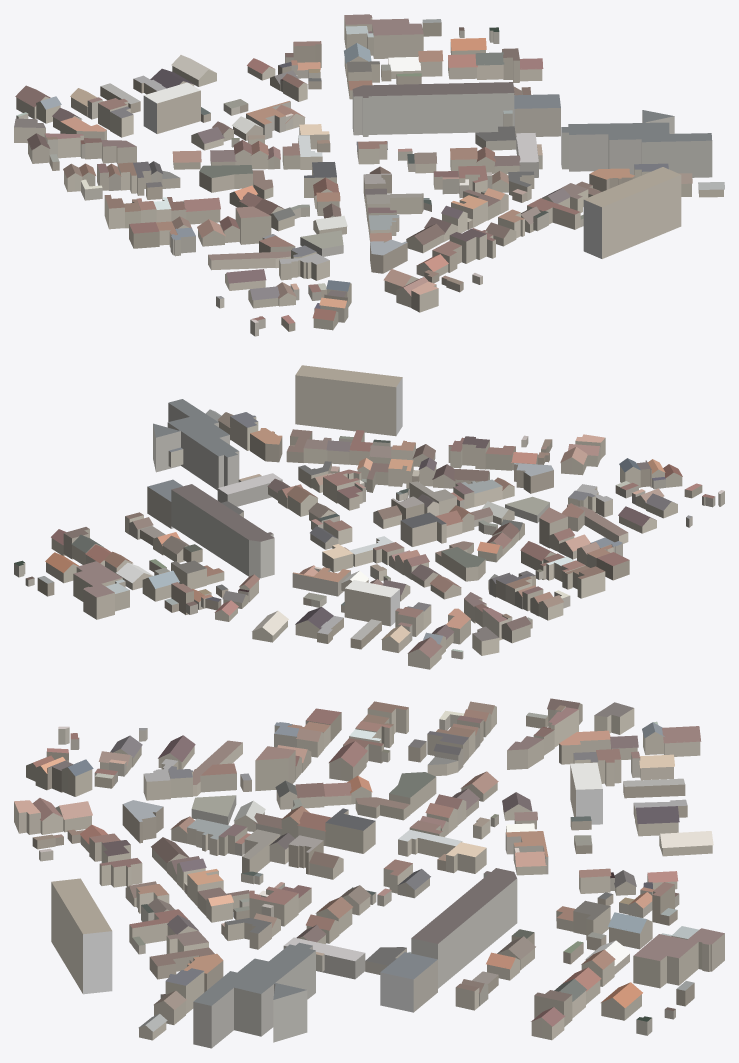
The picture shows the model from 3 angles, top to bottom: view 1: azimuth 30°, elevation 25°; view 2: azimuth 150°, elevation 25°; view 3: azimuth 270°, elevation 25°; orthographic projection. The views are drawn at different scales.
Visible parts, largest first — view 1: tuile; view 2: tuile; view 3: tuile.
Boxes of the visible parts, <box> form: tuile: <box>14,14,724,336</box>; tuile: <box>14,365,724,669</box>; tuile: <box>14,698,724,1048</box>.
Bounding box in the file's own units: 267 × 29.28 × 266.
